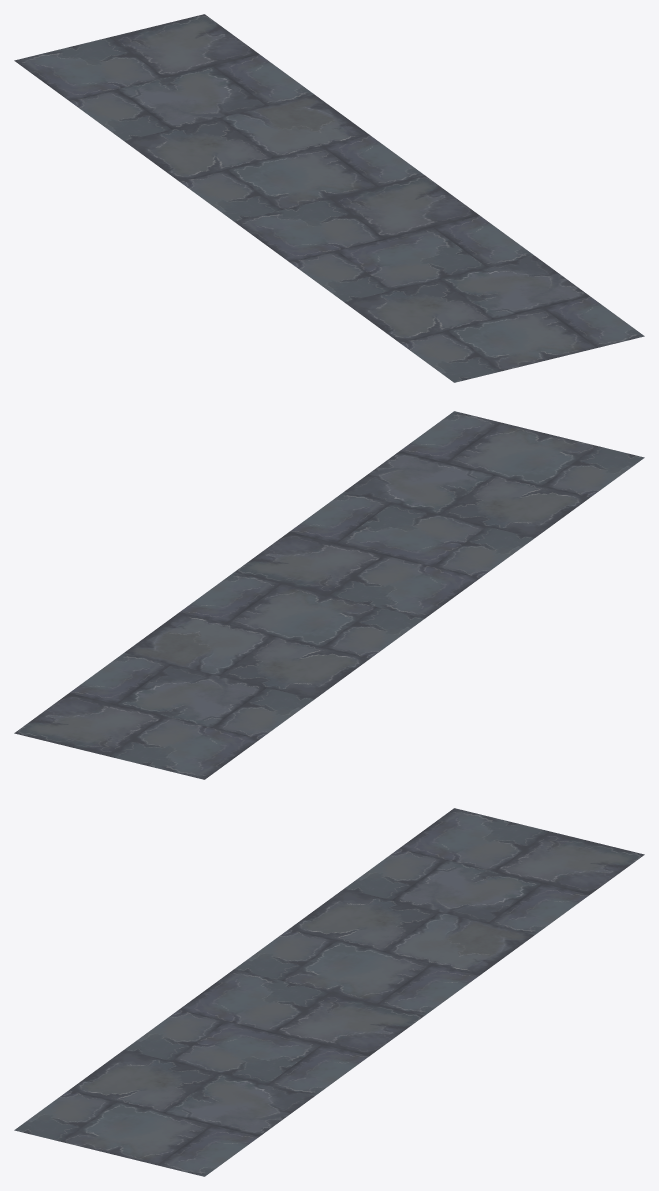
File: Castle Ground X Dark 2x8.fbx
The picture shows the model from 3 angles, top to bottom: view 1: azimuth 30°, elevation 25°; view 2: azimuth 150°, elevation 25°; view 3: azimuth 330°, elevation 25°; orthographic projection.
Visible parts, largest first — view 1: Castle Ground X Dark 2x8; view 2: Castle Ground X Dark 2x8; view 3: Castle Ground X Dark 2x8.
Boxes of the visible parts, left/top/right/bottom form: Castle Ground X Dark 2x8: left=14, top=14, right=644, bottom=382; Castle Ground X Dark 2x8: left=14, top=411, right=644, bottom=779; Castle Ground X Dark 2x8: left=14, top=808, right=644, bottom=1176.
Bounding box in the file's own units: 1.5 × 1.04e-06 × 6.
